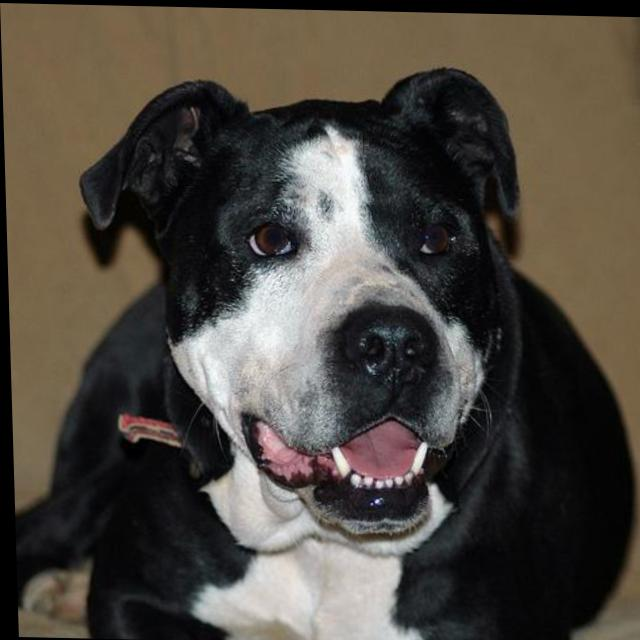amstaff: (3, 56, 639, 640)
